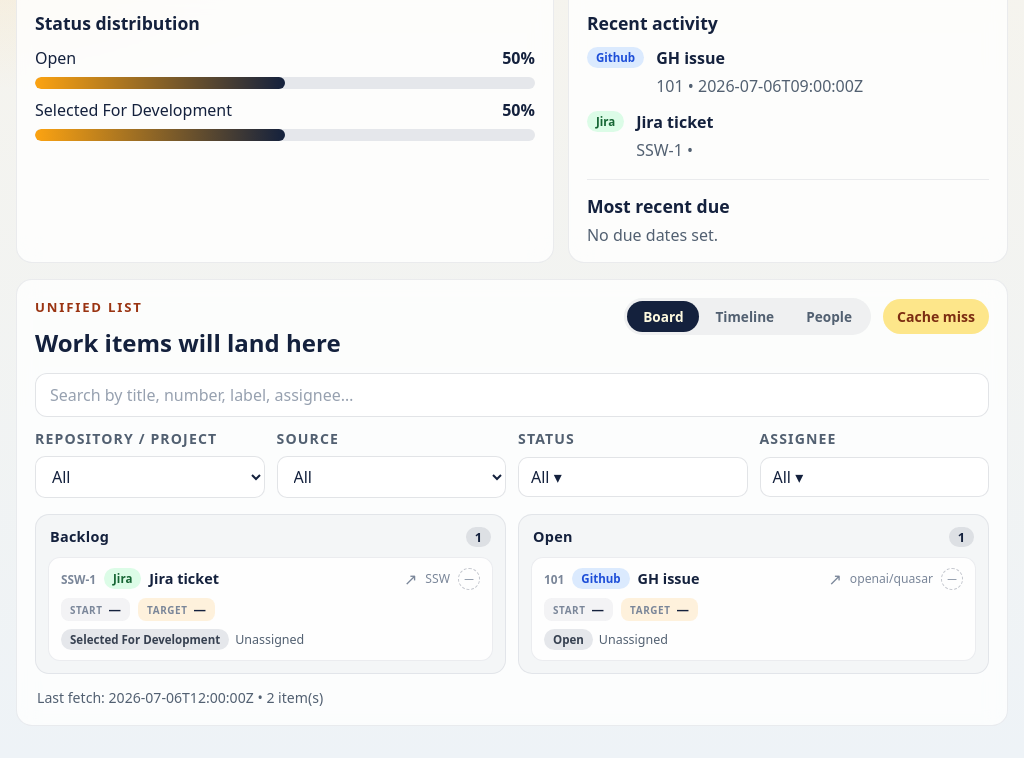
Test: App shell › relabels and scopes the container filter to the selected source
The width and height of the screenshot is (1024, 758).
(page scrolled)
Check: the button "GH issue" is shown, box [638,570,820,588]
Step 1. Select "github" in the dropdown labelled "Source" → (391, 477), box [276,456,506,498]
(page scrolled)
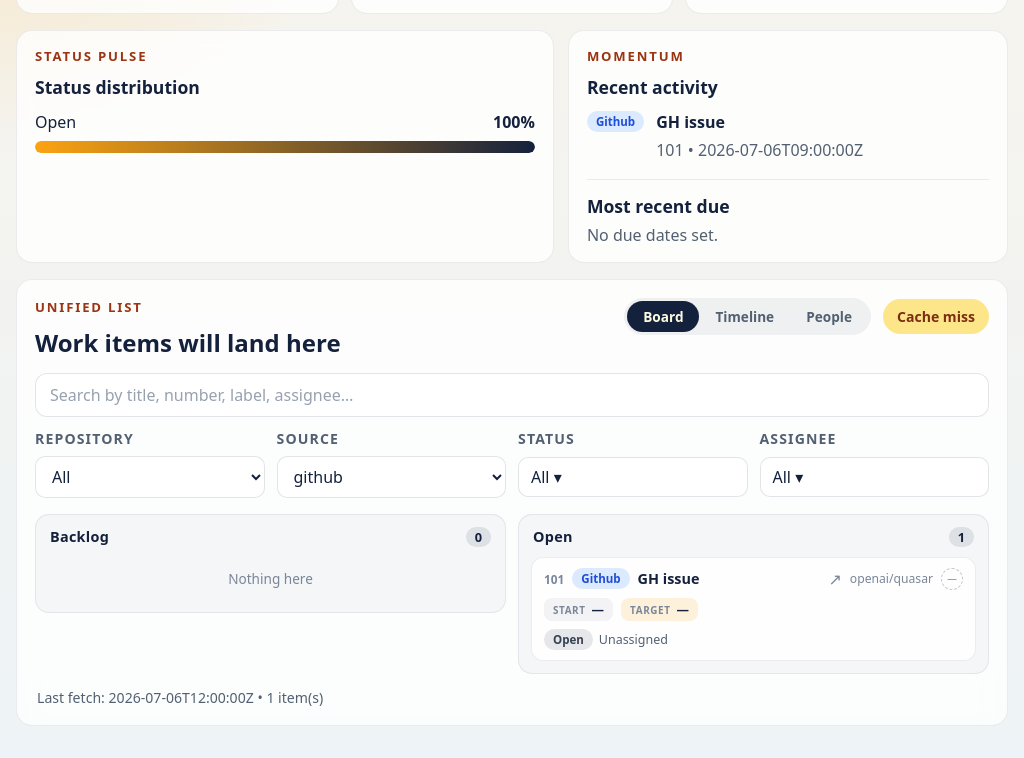
Check: the text "SSW" is gone
Step 2. Select "jira" in the dropdown labelled "Source" → (391, 477), box [276,456,506,498]
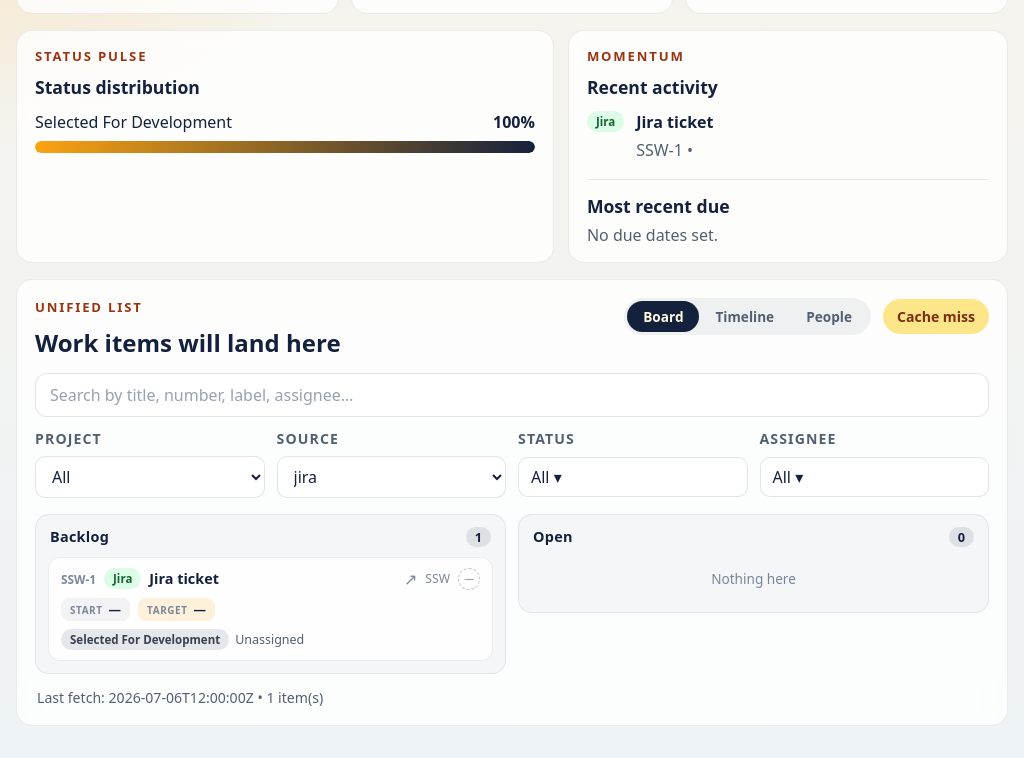
Check: the text "openai/quasar" is gone
